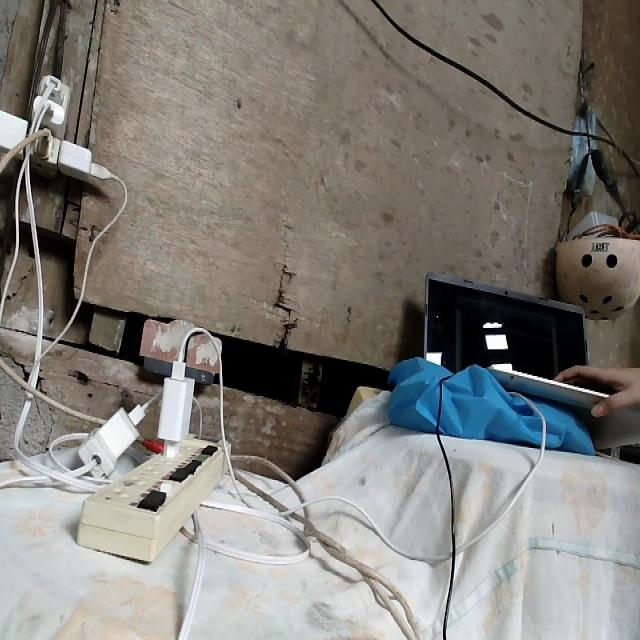-: (0, 71, 95, 185)
